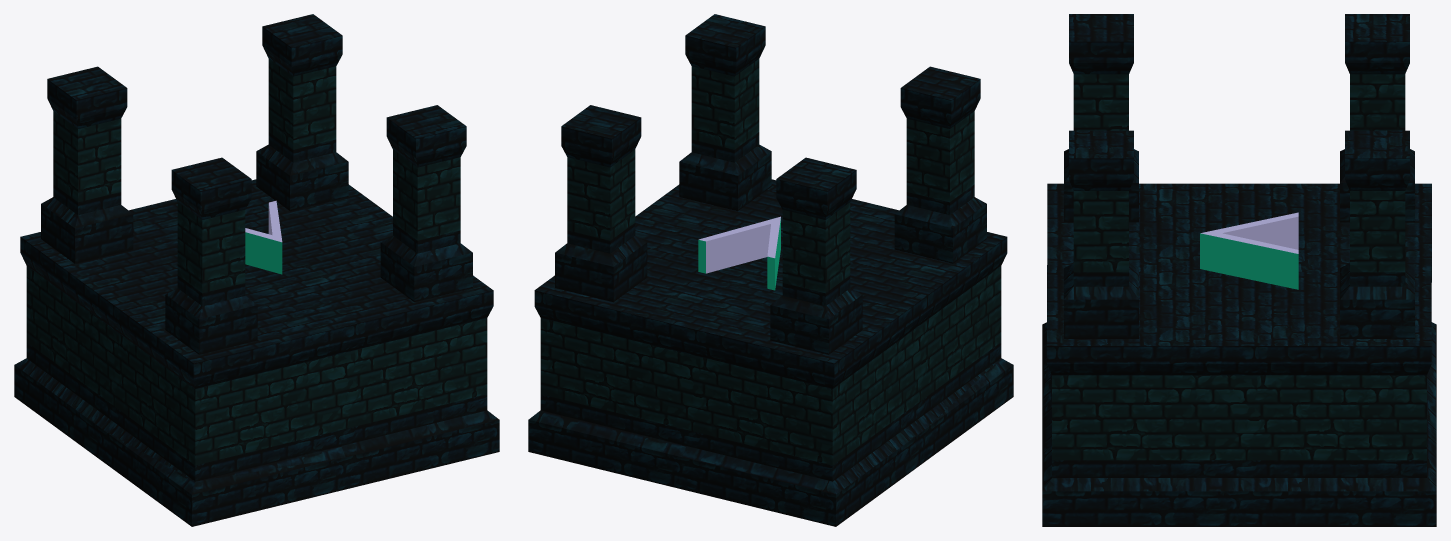
The model's file is debug-pillar.glb.
3 views of the same model, side by side, from view 1: azimuth 30°, elevation 25°; view 2: azimuth 150°, elevation 25°; view 3: azimuth 270°, elevation 25° (orthographic). The views are drawn at different scales.
Visible parts, largest first — view 1: mergedBlocks(Clone); view 2: mergedBlocks(Clone); view 3: mergedBlocks(Clone).
Part boxes in pixels (box(x1,y1,x2,y2)): mergedBlocks(Clone): box(14, 14, 499, 526); mergedBlocks(Clone): box(528, 14, 1013, 526); mergedBlocks(Clone): box(1042, 14, 1436, 526).
Bounding box in the file's own units: 2 × 2 × 2.
Materials: 4 (2 with a texture image).
